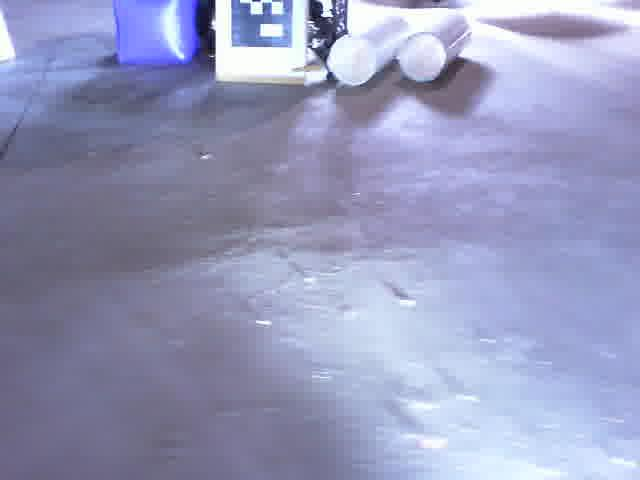coral: (328, 15, 410, 86), (400, 13, 473, 83)
